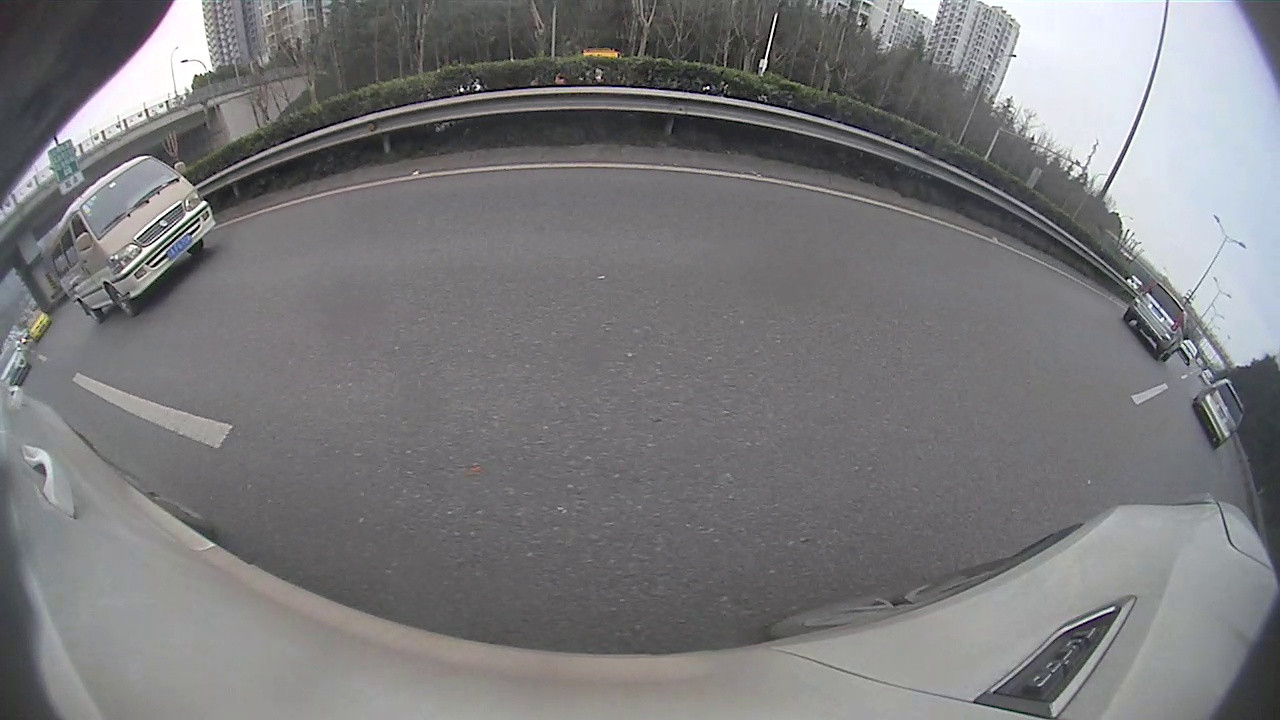car: (48, 153, 215, 325), (1122, 280, 1188, 364), (1194, 375, 1245, 450)
front: (105, 283, 139, 317)
